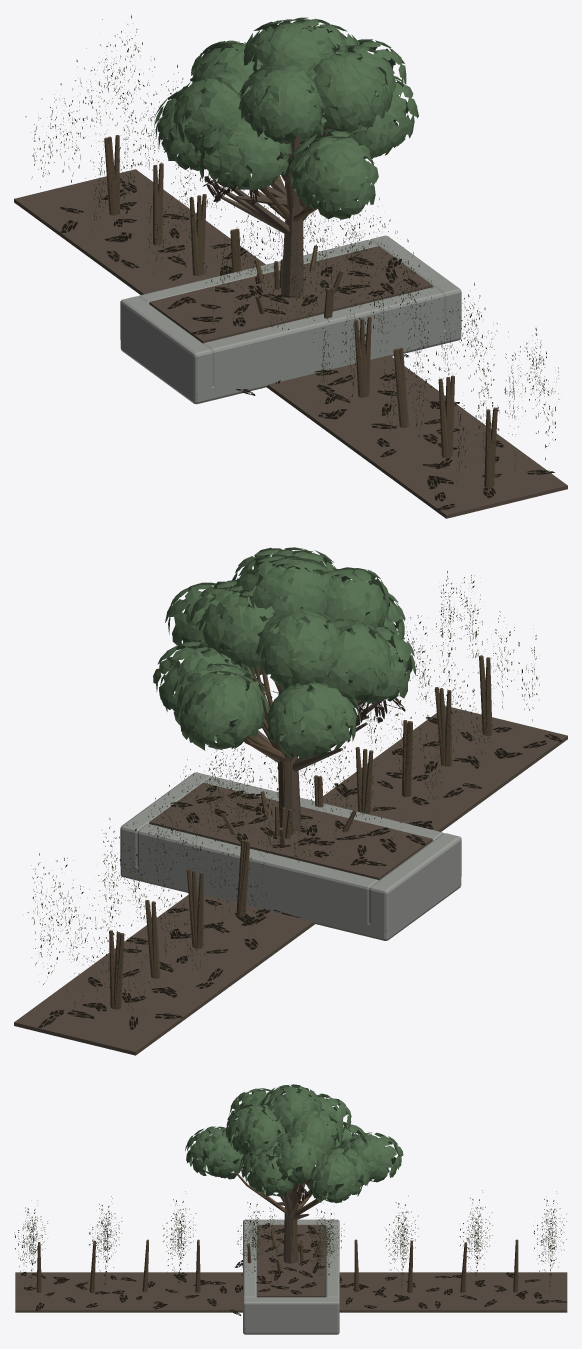
File: vegetation.glb
3 views of the same model, one above another, from view 1: azimuth 30°, elevation 25°; view 2: azimuth 150°, elevation 25°; view 3: azimuth 270°, elevation 25° (orthographic). The views are drawn at different scales.
Parts seen in each view (by area): view 1: yard_hedge_run, academic_planter, opening_street_tree_small, opening_street_tree_small_c, opening_street_tree_small_b, yard_hedge_corner, yard_hedge_dense, academic_dead_tree, opening_park_laurel, academic_dead_tree_b; view 2: yard_hedge_run, academic_planter, opening_street_tree_small, opening_street_tree_small_c, opening_street_tree_small_b, yard_hedge_dense, yard_hedge_corner, academic_dead_tree, opening_park_laurel; view 3: yard_hedge_run, yard_hedge_corner, academic_planter, opening_street_tree_small_b, opening_street_tree_small, opening_street_tree_small_c, yard_hedge_dense, academic_dead_tree, opening_park_laurel, academic_dead_tree_b.
Boxes of the visible parts, bbox=[...] form: yard_hedge_run: bbox=[14, 44, 566, 518]; academic_planter: bbox=[120, 235, 461, 404]; opening_street_tree_small: bbox=[154, 19, 408, 221]; opening_street_tree_small_c: bbox=[162, 21, 392, 222]; opening_street_tree_small_b: bbox=[158, 17, 418, 213]; yard_hedge_corner: bbox=[14, 15, 567, 518]; yard_hedge_dense: bbox=[14, 69, 560, 518]; academic_dead_tree: bbox=[196, 135, 306, 298]; opening_park_laurel: bbox=[198, 198, 408, 395]; academic_dead_tree_b: bbox=[204, 128, 328, 220]; yard_hedge_run: bbox=[14, 576, 567, 1054]; academic_planter: bbox=[120, 772, 461, 940]; opening_street_tree_small: bbox=[160, 547, 414, 800]; opening_street_tree_small_c: bbox=[172, 550, 407, 797]; opening_street_tree_small_b: bbox=[153, 547, 415, 805]; yard_hedge_dense: bbox=[14, 602, 567, 1055]; yard_hedge_corner: bbox=[27, 571, 546, 1027]; academic_dead_tree: bbox=[256, 673, 405, 834]; opening_park_laurel: bbox=[177, 746, 402, 860]; yard_hedge_run: bbox=[14, 1191, 567, 1312]; yard_hedge_corner: bbox=[14, 1190, 567, 1312]; academic_planter: bbox=[243, 1219, 339, 1334]; opening_street_tree_small_b: bbox=[202, 1089, 381, 1260]; opening_street_tree_small: bbox=[186, 1086, 401, 1241]; opening_street_tree_small_c: bbox=[185, 1084, 403, 1211]; yard_hedge_dense: bbox=[15, 1212, 566, 1312]; academic_dead_tree: bbox=[275, 1179, 312, 1263]; opening_park_laurel: bbox=[229, 1203, 327, 1315]; academic_dead_tree_b: bbox=[283, 1184, 310, 1220].
Size of what is drawn, in the model's own units: 3.92 by 4.5 by 10.98.
Materials: 7 (2 with a texture image).
